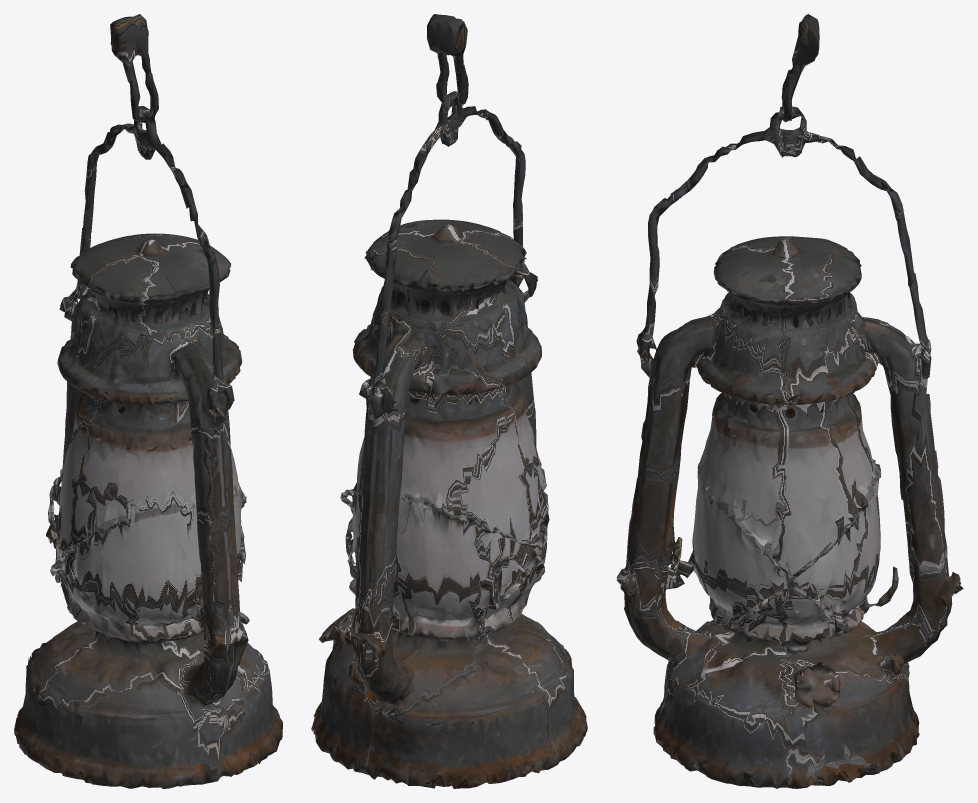
File: فانوس_معلق.glb
The picture shows the model from 3 angles, left to right: view 1: azimuth 30°, elevation 25°; view 2: azimuth 150°, elevation 25°; view 3: azimuth 270°, elevation 25°; orthographic projection. The views are drawn at different scales.
Parts seen in each view (by area): view 1: tripo_node_6c18fd08-7d95-40b1-8fca-e11d042ad2df; view 2: tripo_node_6c18fd08-7d95-40b1-8fca-e11d042ad2df; view 3: tripo_node_6c18fd08-7d95-40b1-8fca-e11d042ad2df.
Boxes of the visible parts, x1,y1,x2,y2 form: tripo_node_6c18fd08-7d95-40b1-8fca-e11d042ad2df: (14, 14, 282, 788); tripo_node_6c18fd08-7d95-40b1-8fca-e11d042ad2df: (311, 14, 587, 788); tripo_node_6c18fd08-7d95-40b1-8fca-e11d042ad2df: (616, 14, 963, 788).
Bounding box in the file's own units: 0.3424 × 1 × 0.4432.
1 material, 1 textured.
